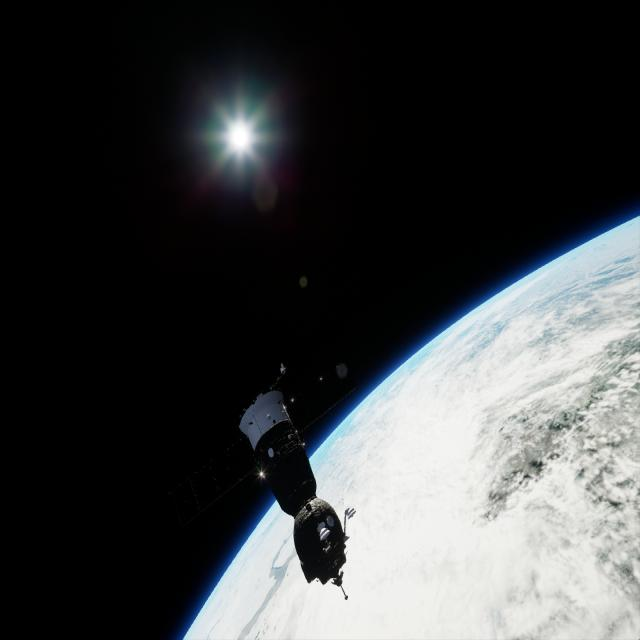Satellites revolving around earth: (182, 213, 638, 638)
